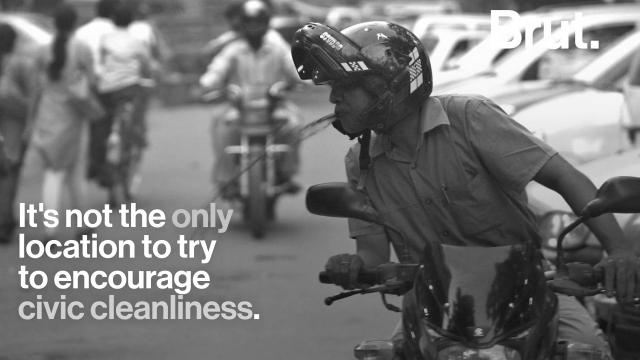spit: (204, 75, 388, 208)
